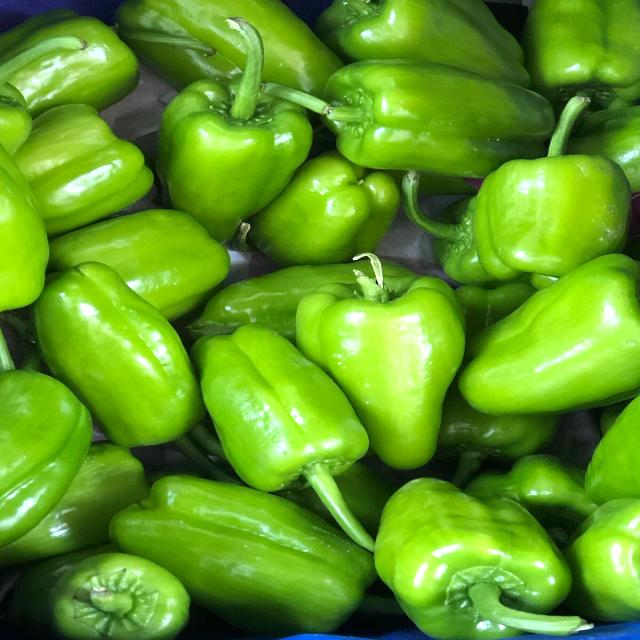bell pepper: (175, 313, 400, 545), (358, 468, 598, 640), (295, 252, 476, 474), (311, 50, 564, 177), (24, 263, 199, 446)
